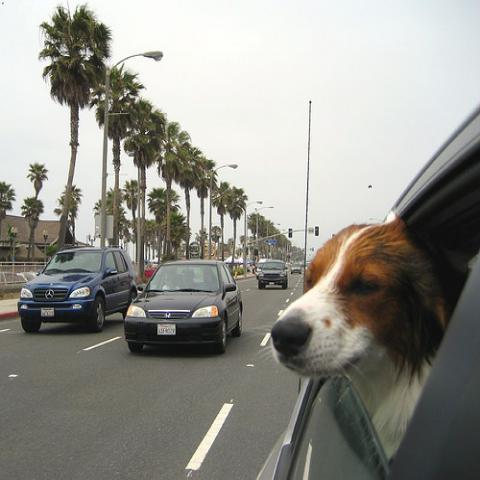car: (259, 103, 480, 479), (16, 240, 138, 336), (126, 257, 247, 349), (258, 259, 288, 290), (256, 258, 268, 280), (290, 262, 302, 274)
